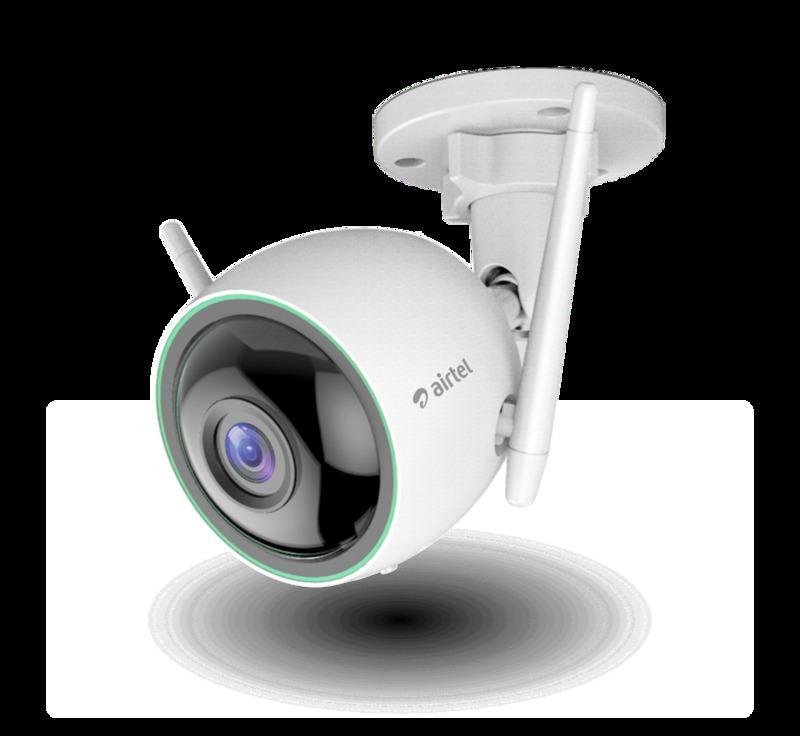bullet: (133, 196, 544, 598)
